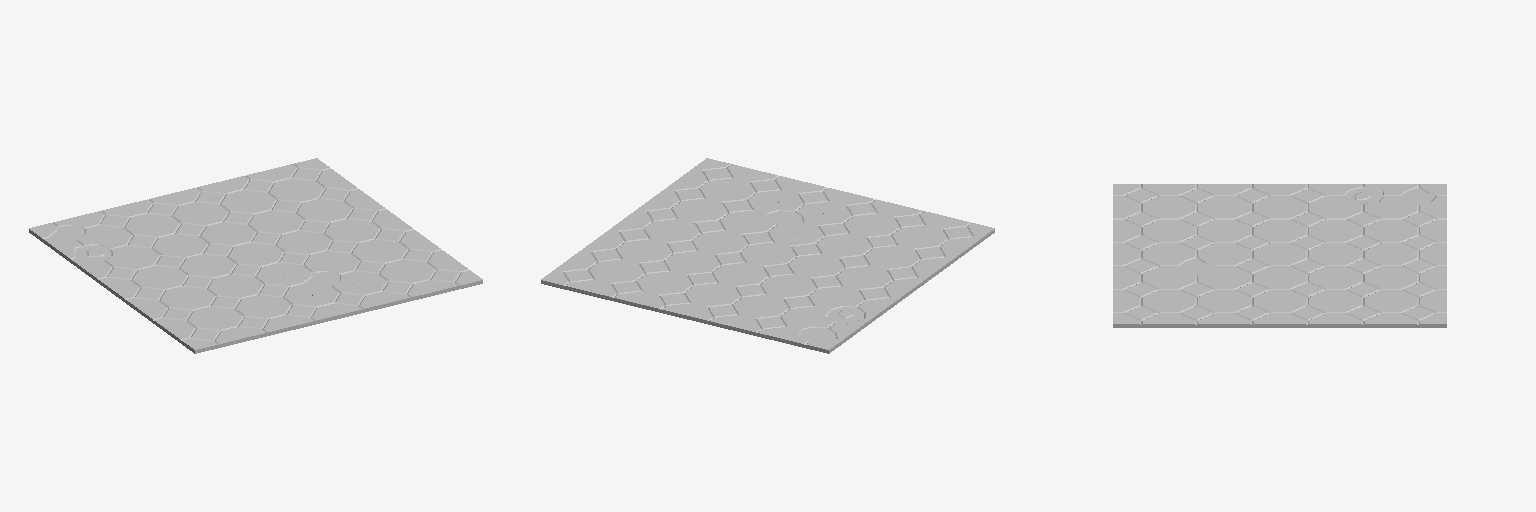
The model's file is FloorNoGrate.obj.
The picture shows the model from 3 angles: view 1: azimuth 30°, elevation 25°; view 2: azimuth 150°, elevation 25°; view 3: azimuth 270°, elevation 25°; orthographic projection.
Visible parts, largest first — view 1: floor_tile_large.003, floor_tile_large.007, floor_tile_large.002, floor_tile_large.005, floor_tile_large.006, floor_tile_large.001, floor_tile_large, floor_tile_small.002, floor_tile_small.003, floor_tile_small_broken_A, floor_tile_small_broken_B, floor_tile_small_broken_B.001 (+3 smaller); view 2: floor_tile_large.005, floor_tile_large, floor_tile_large.002, floor_tile_large.003, floor_tile_large.007, floor_tile_large.006, floor_tile_large.001, floor_tile_small_broken_B, floor_tile_small, floor_tile_small_broken_A, floor_tile_small.001, floor_tile_small.002 (+3 smaller); view 3: floor_tile_large.001, floor_tile_large.005, floor_tile_large.007, floor_tile_large.006, floor_tile_large.002, floor_tile_large, floor_tile_large.003, floor_tile_small.002, floor_tile_small, floor_tile_small_broken_B.001, floor_tile_small.001, floor_tile_small_broken_A (+3 smaller).
Part boxes in pixels (left/top/right/bottom): floor_tile_large.003: left=140, top=286, right=290, bottom=353; floor_tile_large.007: left=333, top=239, right=482, bottom=306; floor_tile_large.002: left=84, top=246, right=234, bottom=312; floor_tile_large.005: left=221, top=158, right=371, bottom=221; floor_tile_large.006: left=180, top=222, right=331, bottom=285; floor_tile_large.001: left=277, top=199, right=426, bottom=262; floor_tile_large: left=125, top=182, right=275, bottom=244; floor_tile_small.002: left=312, top=283, right=386, bottom=318; floor_tile_small.003: left=263, top=295, right=338, bottom=329; floor_tile_small_broken_A: left=56, top=237, right=130, bottom=271; floor_tile_small_broken_B: left=29, top=217, right=103, bottom=251; floor_tile_small_broken_B.001: left=284, top=263, right=358, bottom=294; floor_tile_large.005: left=541, top=239, right=690, bottom=306; floor_tile_large: left=637, top=263, right=787, bottom=329; floor_tile_large.002: left=789, top=246, right=939, bottom=312; floor_tile_large.003: left=844, top=205, right=994, bottom=271; floor_tile_large.007: left=652, top=158, right=802, bottom=221; floor_tile_large.006: left=692, top=222, right=843, bottom=285; floor_tile_large.001: left=597, top=199, right=746, bottom=262; floor_tile_small_broken_B: left=781, top=318, right=856, bottom=353; floor_tile_small: left=733, top=307, right=807, bottom=341; floor_tile_small_broken_A: left=810, top=298, right=883, bottom=332; floor_tile_small.001: left=761, top=286, right=835, bottom=317; floor_tile_small.002: left=776, top=182, right=850, bottom=213; floor_tile_large.001: left=1224, top=278, right=1335, bottom=327; floor_tile_large.005: left=1336, top=278, right=1446, bottom=327; floor_tile_large.007: left=1113, top=278, right=1223, bottom=327; floor_tile_large.006: left=1224, top=231, right=1335, bottom=277; floor_tile_large.002: left=1224, top=184, right=1335, bottom=230; floor_tile_large: left=1336, top=231, right=1446, bottom=277; floor_tile_large.003: left=1113, top=184, right=1223, bottom=230; floor_tile_small.002: left=1113, top=254, right=1168, bottom=277; floor_tile_small: left=1391, top=207, right=1446, bottom=230; floor_tile_small_broken_B.001: left=1169, top=254, right=1224, bottom=277; floor_tile_small.001: left=1335, top=207, right=1390, bottom=230; floor_tile_small_broken_A: left=1335, top=184, right=1390, bottom=207.
Size of the model in its own units: 11.4 by 0.1425 by 11.4.